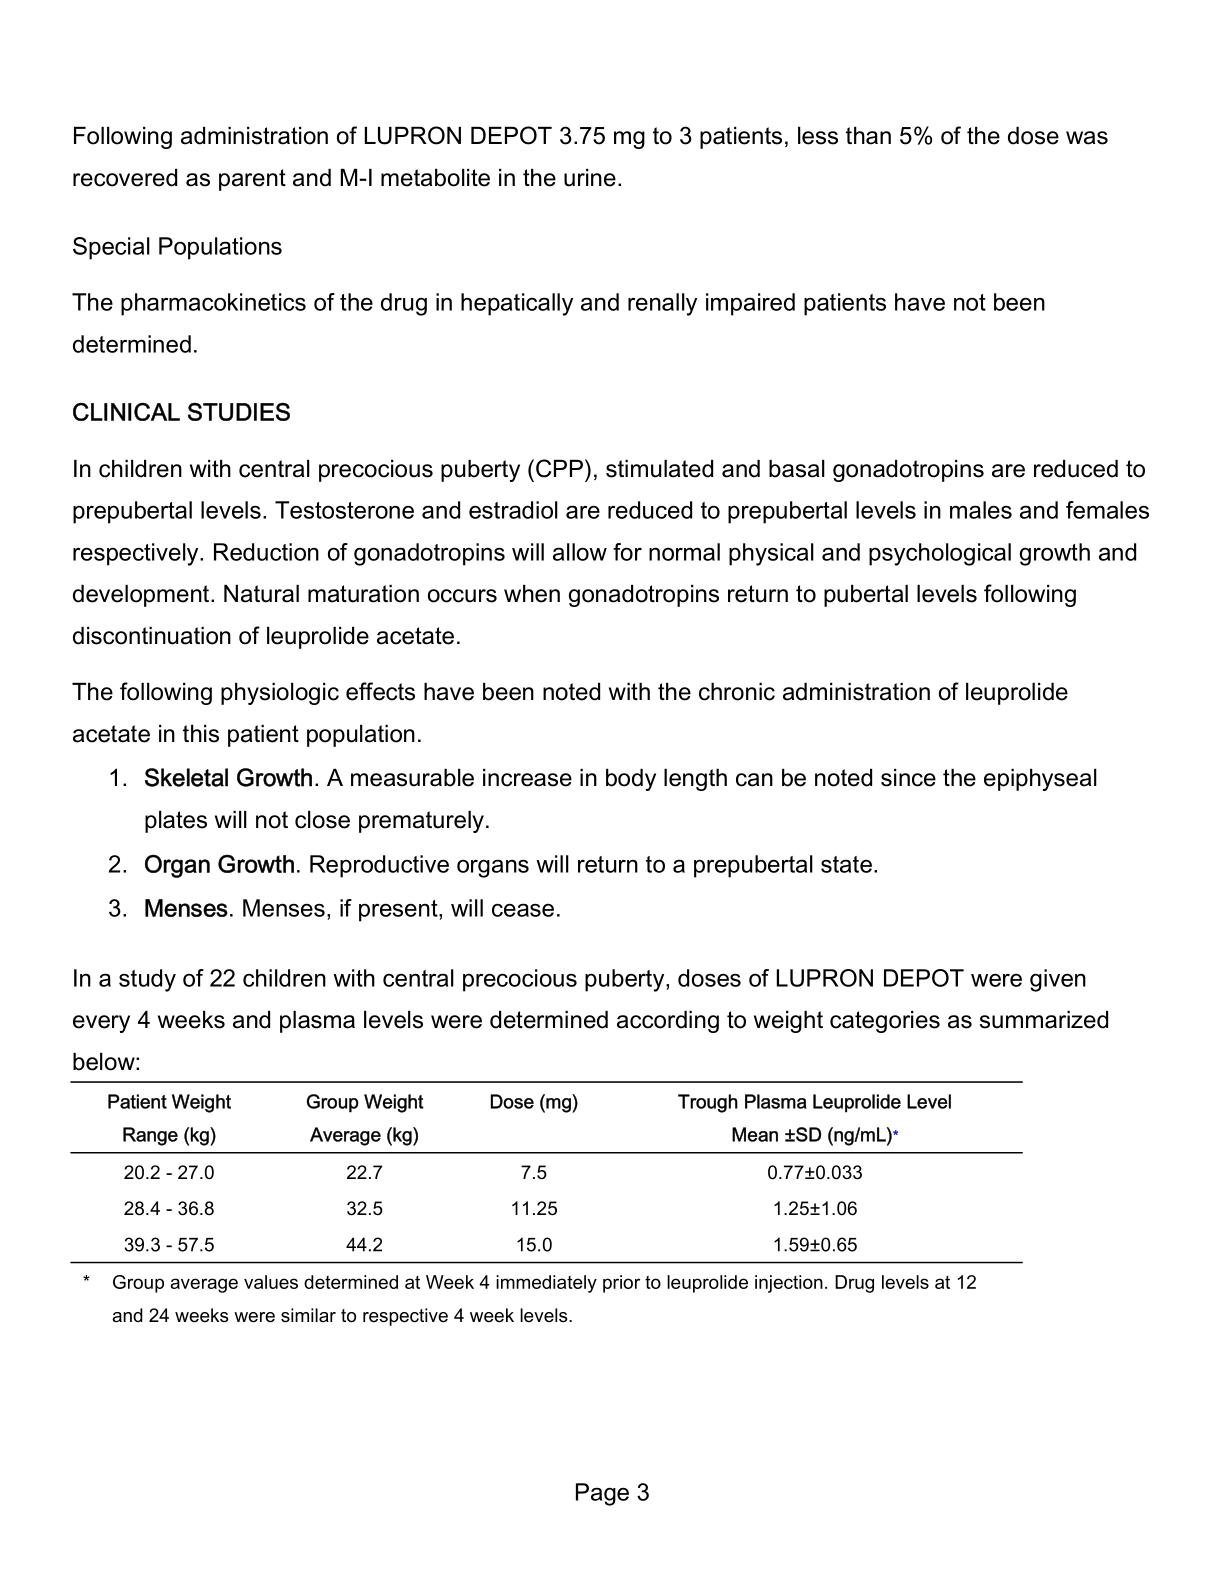partial_lined: (69, 1080, 1023, 1265)
